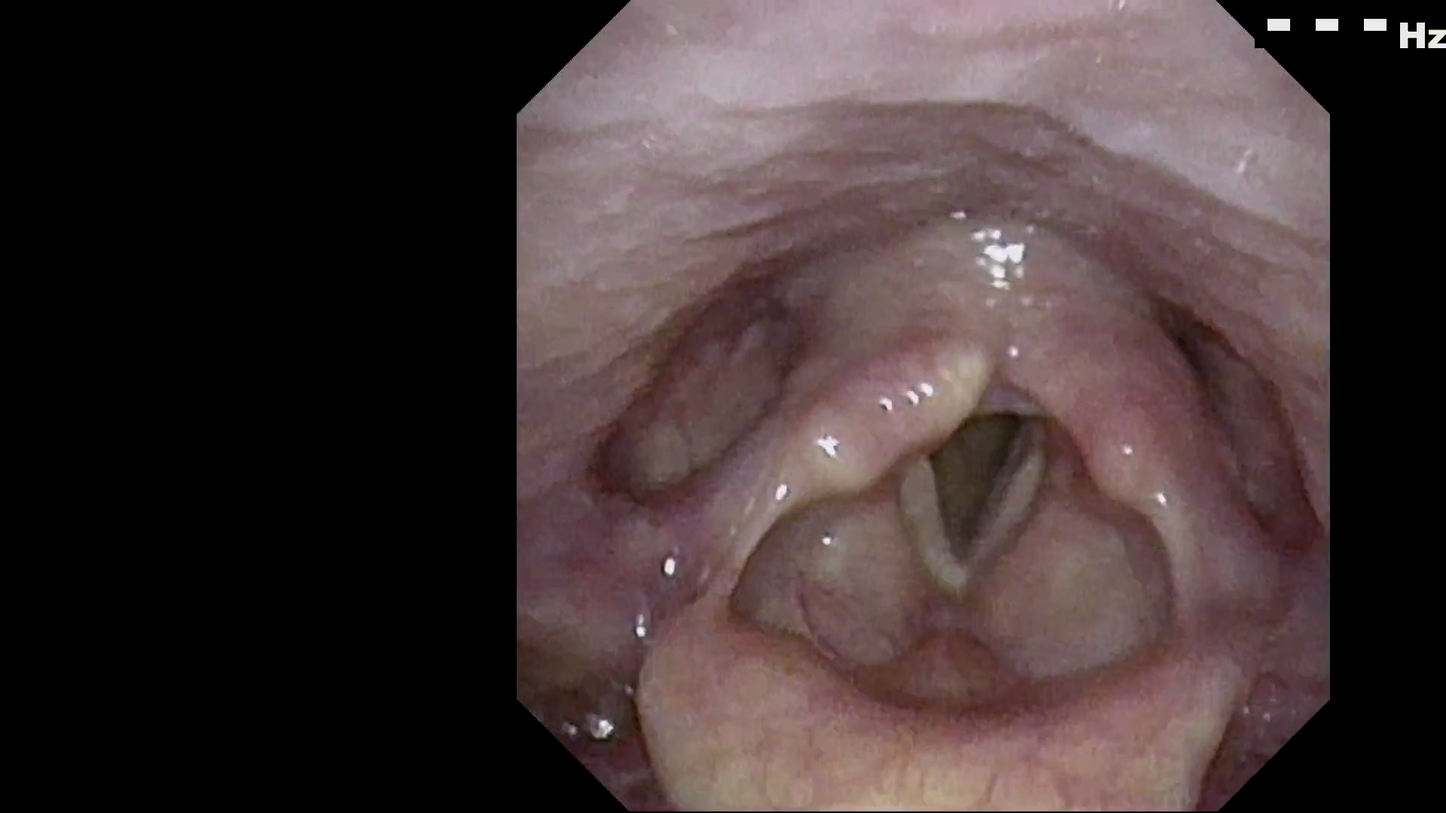epiglottis: (600, 524, 1240, 767)
trachea: (877, 380, 1056, 605)
